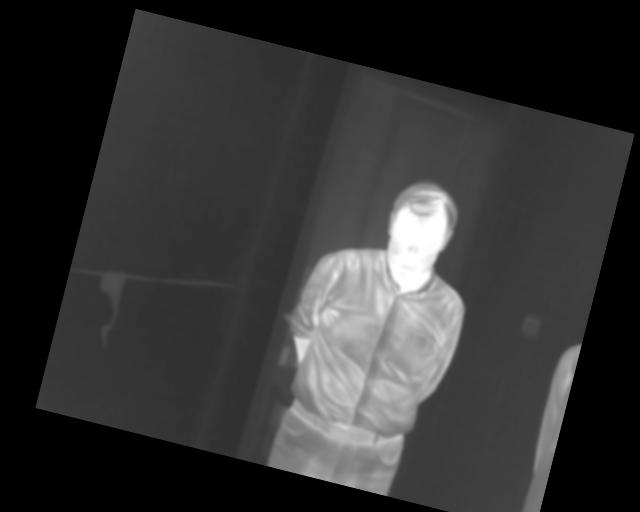face: (374, 172, 465, 290)
